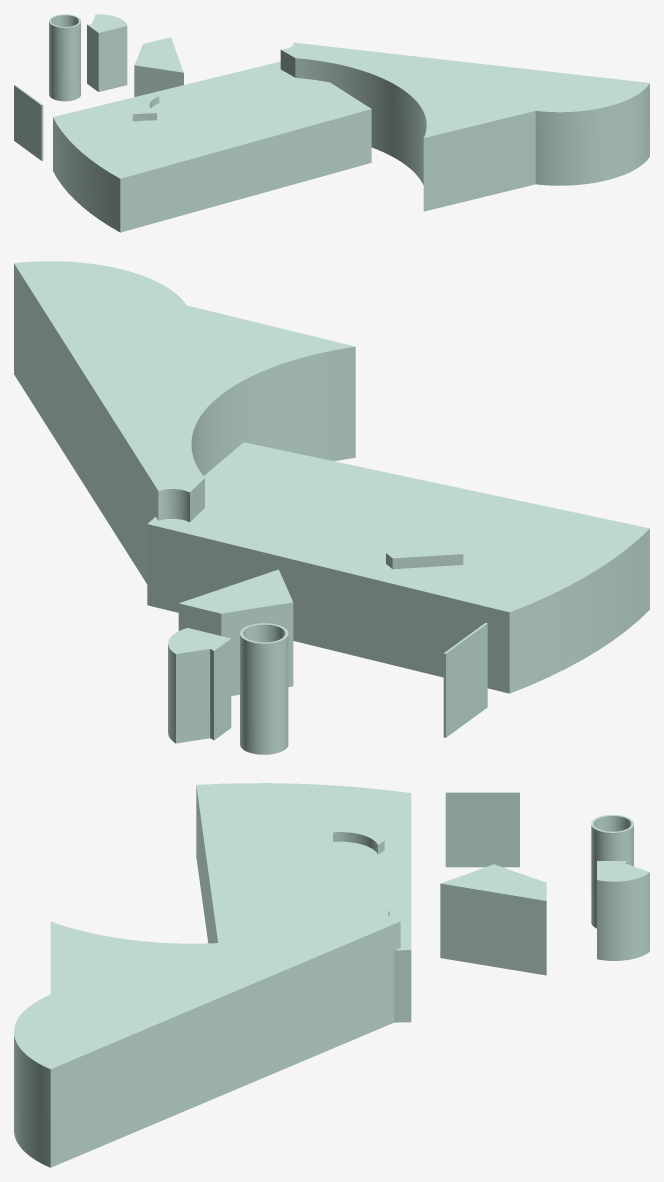
3 renders of one model, top to bottom at view 1: azimuth 30°, elevation 25°; view 2: azimuth 150°, elevation 25°; view 3: azimuth 270°, elevation 25°, orthographic. The views are drawn at different scales.
Visible parts, largest first — view 1: Renderer Node; view 2: Renderer Node; view 3: Renderer Node.
Boxes of the visible parts, x1,y1,x2,y2 form: Renderer Node: [14, 14, 649, 232]; Renderer Node: [14, 261, 649, 754]; Renderer Node: [14, 783, 649, 1167].
Size of the model in its own units: 2.18 by 0.3203 by 1.87.
